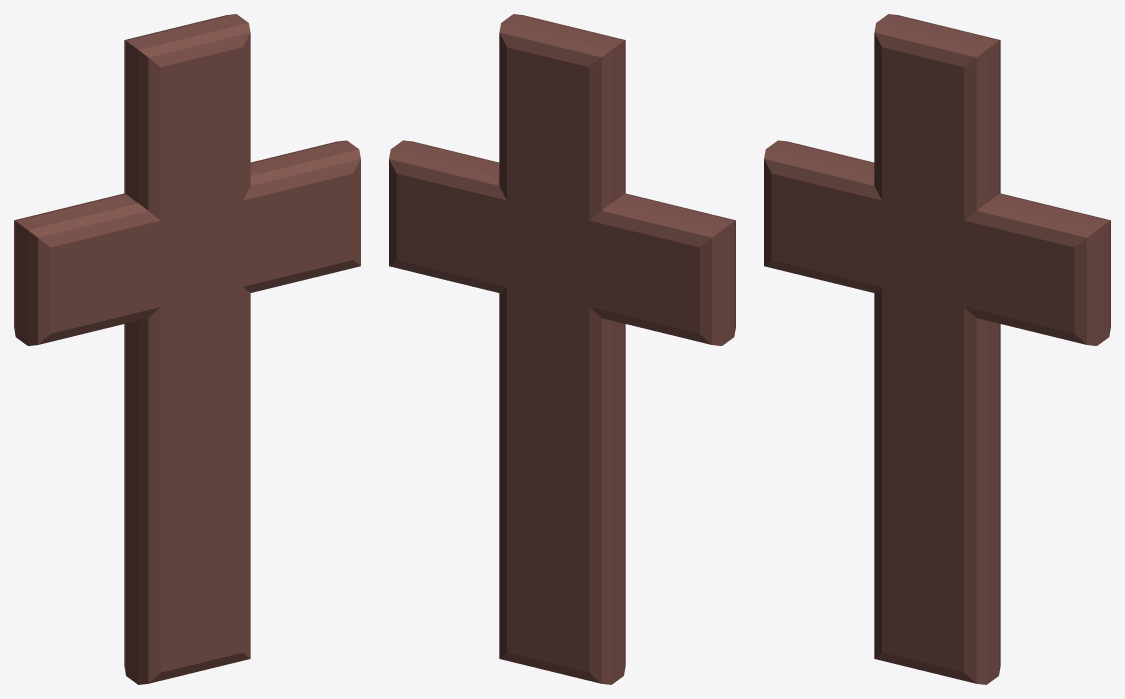
The model's file is SimpleCross.fbx.
The picture shows the model from 3 angles, left to right: view 1: azimuth 30°, elevation 25°; view 2: azimuth 150°, elevation 25°; view 3: azimuth 330°, elevation 25°; orthographic projection.
Visible parts, largest first — view 1: Simple Cross; view 2: Simple Cross; view 3: Simple Cross.
Boxes of the visible parts, x1,y1,x2,y2 form: Simple Cross: (14, 14, 360, 684); Simple Cross: (389, 14, 735, 684); Simple Cross: (764, 14, 1110, 684).
Bounding box in the file's own units: 12.25 × 22.44 × 1.83.
